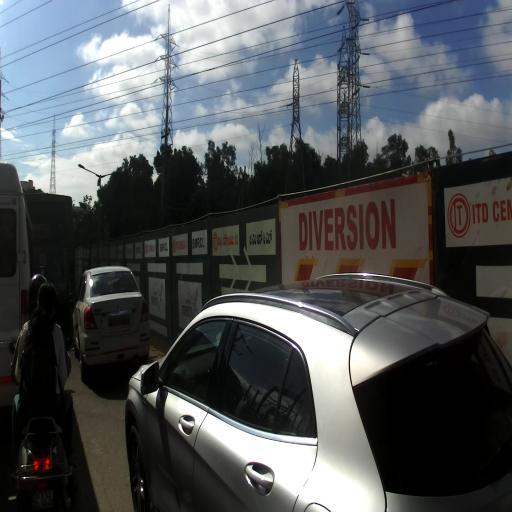street_light_0: (78, 164, 101, 186), (97, 170, 123, 187)
